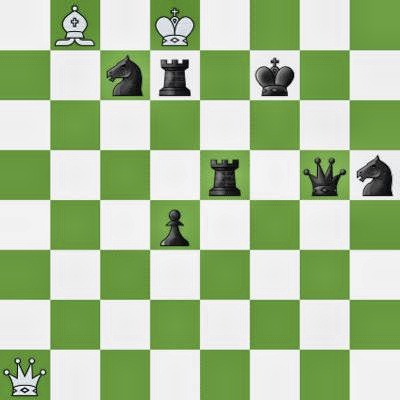black-king: (250, 50, 300, 100)
black-knight: (100, 50, 150, 100), (350, 150, 400, 200)
black-pawn: (150, 200, 200, 250)
black-queen: (300, 150, 350, 200)
black-rook: (150, 50, 200, 100), (200, 150, 250, 200)
white-bishop: (50, 0, 100, 50)
white-king: (150, 0, 200, 50)
white-queen: (0, 350, 50, 400)
